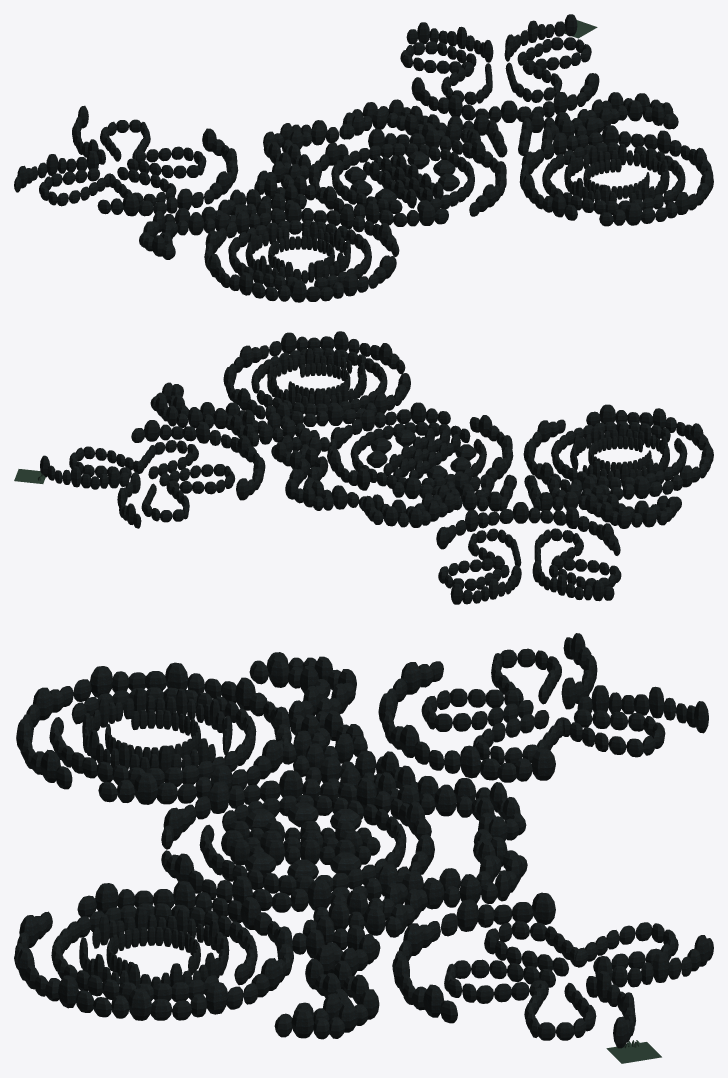
File: GARDEN MAZE MAZE.fbx
3 views of the same model, one above another, from view 1: azimuth 30°, elevation 25°; view 2: azimuth 150°, elevation 25°; view 3: azimuth 270°, elevation 25° (orthographic). The views are drawn at different scales.
Parts seen in each view (by area): view 1: polySurface2710; view 2: polySurface2710; view 3: polySurface2710.
Boxes of the visible parts, x1,y1,x2,y2 form: polySurface2710: (14, 14, 713, 302); polySurface2710: (14, 331, 713, 604); polySurface2710: (14, 633, 713, 1063).
Bounding box in the file's own units: 1180 × 44.49 × 841.
